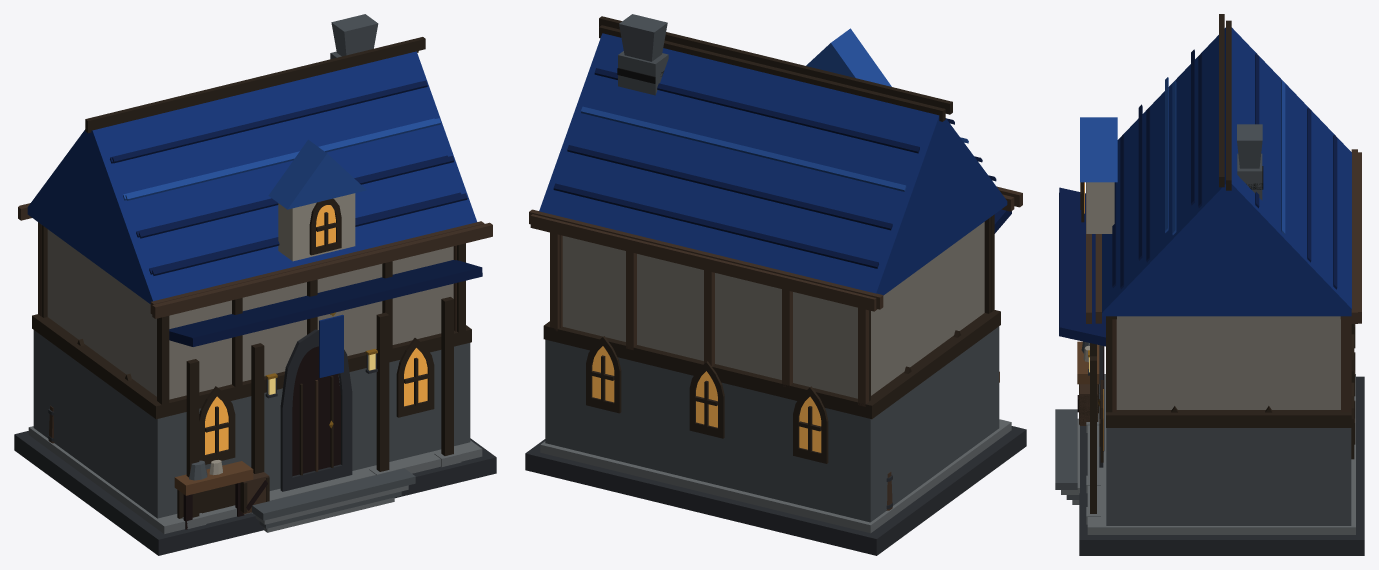
File: eastbrook_inn.glb
3 views of the same model, side by side, from view 1: azimuth 30°, elevation 25°; view 2: azimuth 150°, elevation 25°; view 3: azimuth 270°, elevation 25° (orthographic). The views are drawn at different scales.
Visible parts, largest first — view 1: EastbrookInn_TownOpaque, EastbrookInn_TownEmissive; view 2: EastbrookInn_TownOpaque, EastbrookInn_TownEmissive; view 3: EastbrookInn_TownOpaque.
Part boxes in pixels (x1,y1,x2,y2): EastbrookInn_TownOpaque: [14, 14, 496, 555]; EastbrookInn_TownEmissive: [205, 205, 427, 454]; EastbrookInn_TownOpaque: [525, 14, 1026, 555]; EastbrookInn_TownEmissive: [592, 346, 821, 452]; EastbrookInn_TownOpaque: [1055, 14, 1364, 555].
Size of the model in its own units: 7.5 by 8.5 by 6.
